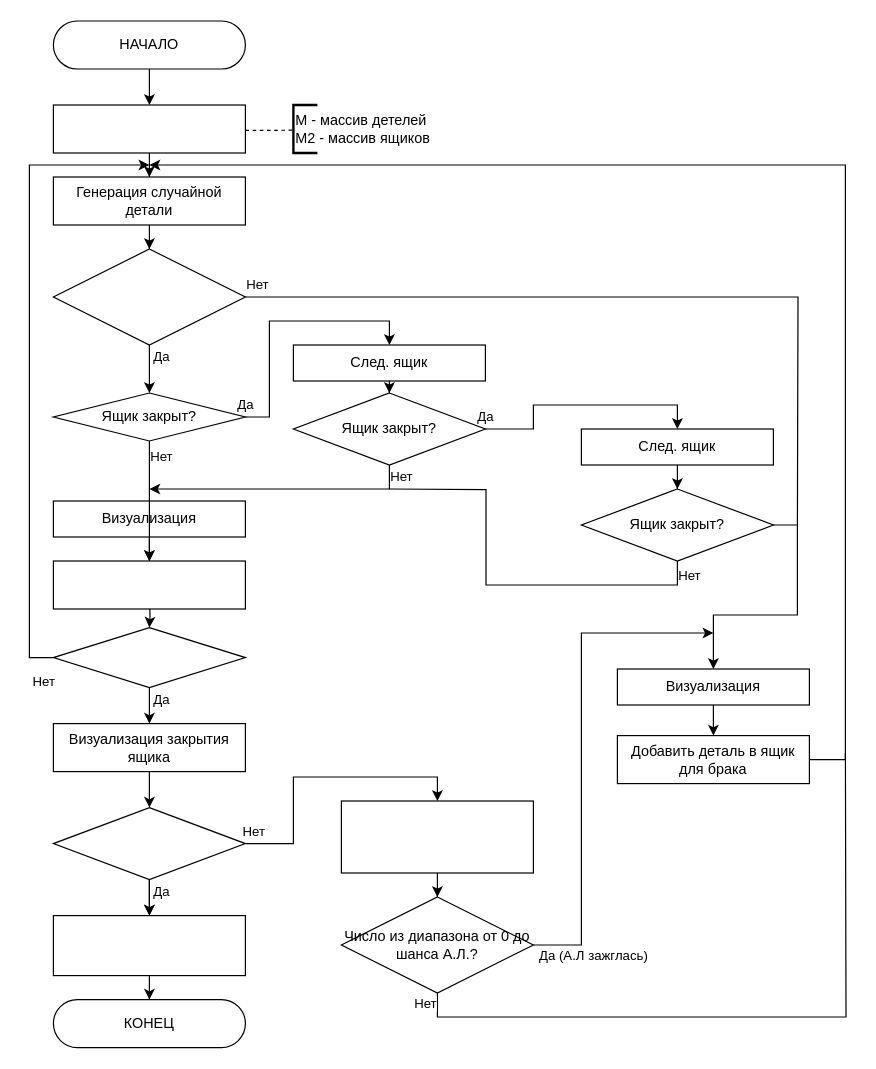
This 876x1069 diagram has some shape labels left out. The shapes that lost their labels are listed below. From the top down, each one's centre as x and y in pixels, then its label:
pixel 148 128: Н.У
pixel 148 296: Есть незакрытые ящики с цветом как у детали?
pixel 148 584: Добавить деталь в ящик
pixel 148 657: Ящик заполнен?
pixel 148 843: Все ящики заполнены?
pixel 436 836: Генерация числа от 0 до 100
pixel 148 945: Вывод сообщения об окончании работы программы
